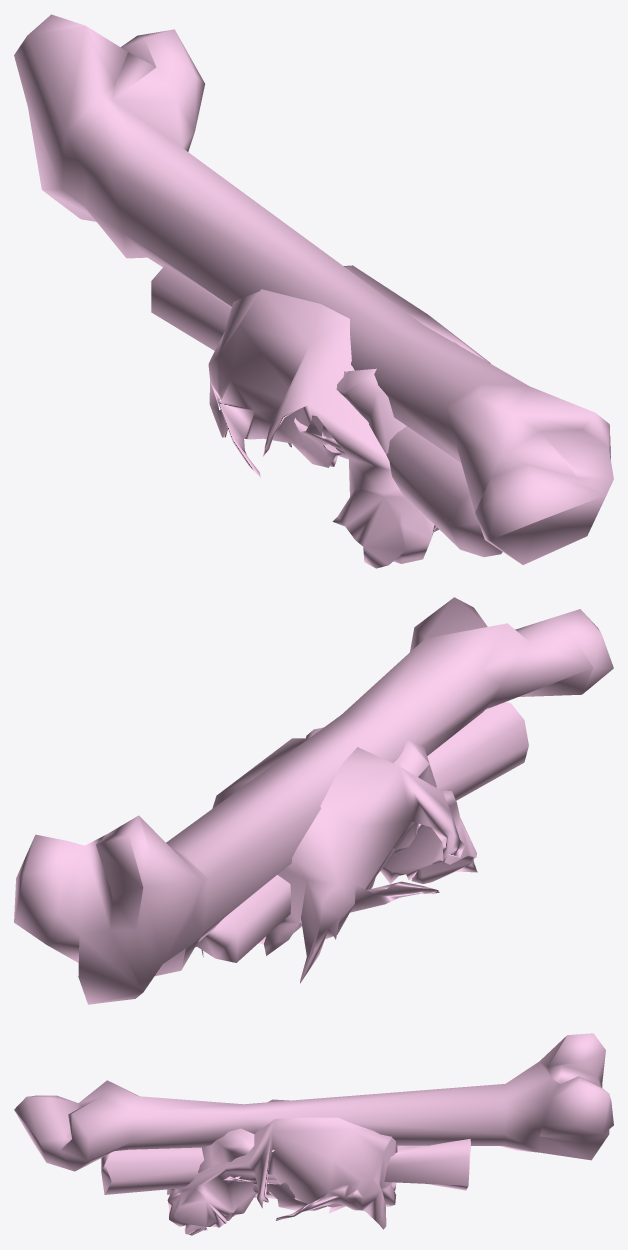
File: skeleton03.fbx
3 views of the same model, one above another, from view 1: azimuth 30°, elevation 25°; view 2: azimuth 150°, elevation 25°; view 3: azimuth 270°, elevation 25° (orthographic). The views are drawn at different scales.
Parts seen in each view (by area): view 1: skeleton03_4, skeleton03_1, skeleton03_5, skeleton03_3; view 2: skeleton03_4, skeleton03_1, skeleton03_5, skeleton03_3; view 3: skeleton03_4, skeleton03_1, skeleton03_5, skeleton03_3.
Boxes of the visible parts, <box> form: skeleton03_4: <box>14,14,613,564</box>; skeleton03_1: <box>208,265,490,568</box>; skeleton03_5: <box>151,264,502,557</box>; skeleton03_3: <box>292,341,458,467</box>; skeleton03_4: <box>14,597,613,1004</box>; skeleton03_1: <box>201,738,477,983</box>; skeleton03_5: <box>195,702,528,962</box>; skeleton03_3: <box>306,727,436,889</box>; skeleton03_4: <box>14,1033,613,1171</box>; skeleton03_1: <box>167,1099,397,1235</box>; skeleton03_5: <box>101,1139,470,1194</box>; skeleton03_3: <box>198,1128,326,1210</box>.
Bounding box in the file's own units: 180 × 208 × 666.
